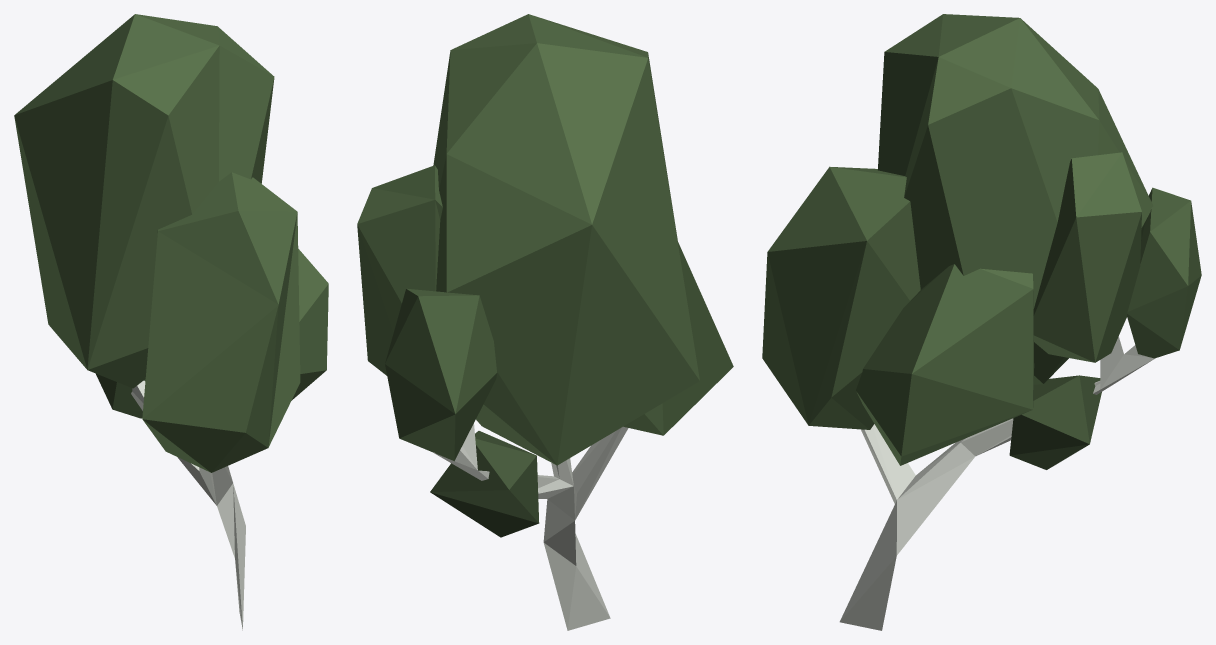
The model's file is BirchTree_1.lod3.glb.
The picture shows the model from 3 angles, left to right: view 1: azimuth 30°, elevation 25°; view 2: azimuth 150°, elevation 25°; view 3: azimuth 270°, elevation 25°; orthographic projection. The views are drawn at different scales.
Visible parts, largest first — view 1: BirchTree_1; view 2: BirchTree_1; view 3: BirchTree_1.
Part boxes in pixels (left/top/right/bottom): BirchTree_1: left=14, top=14, right=328, bottom=630; BirchTree_1: left=357, top=14, right=733, bottom=630; BirchTree_1: left=762, top=14, right=1201, bottom=630.
Size of the model in its own units: 1.57 by 3.56 by 2.39.
